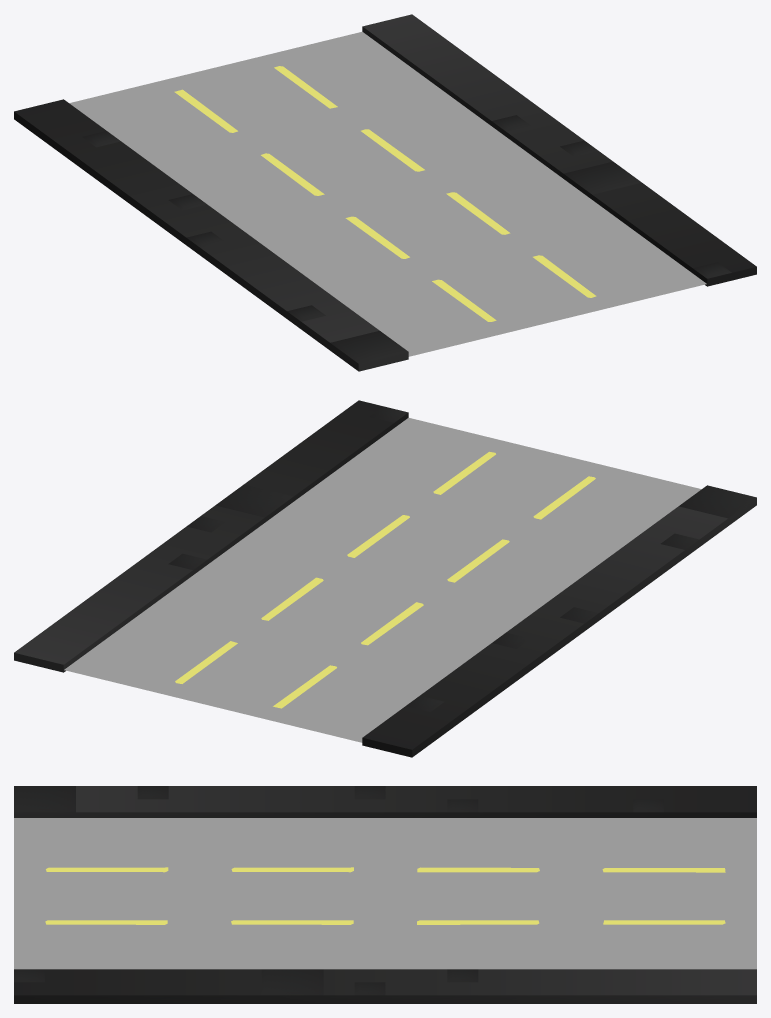
The model's file is Road_1M 1.fbx.
3 views of the same model, one above another, from view 1: azimuth 30°, elevation 25°; view 2: azimuth 150°, elevation 25°; view 3: azimuth 270°, elevation 25° (orthographic). The views are drawn at different scales.
Visible parts, largest first — view 1: Road_1M; view 2: Road_1M; view 3: Road_1M.
Part boxes in pixels (box(x1,y1,x2,y2)): Road_1M: box(14, 14, 756, 371); Road_1M: box(14, 400, 756, 757); Road_1M: box(14, 786, 756, 1003).
Bounding box in the file's own units: 1600 × 35.65 × 2400.
